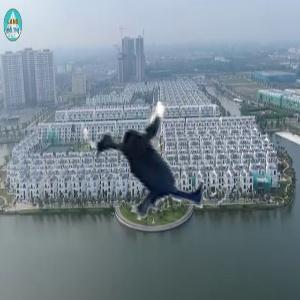drone: (65, 71, 245, 251)
